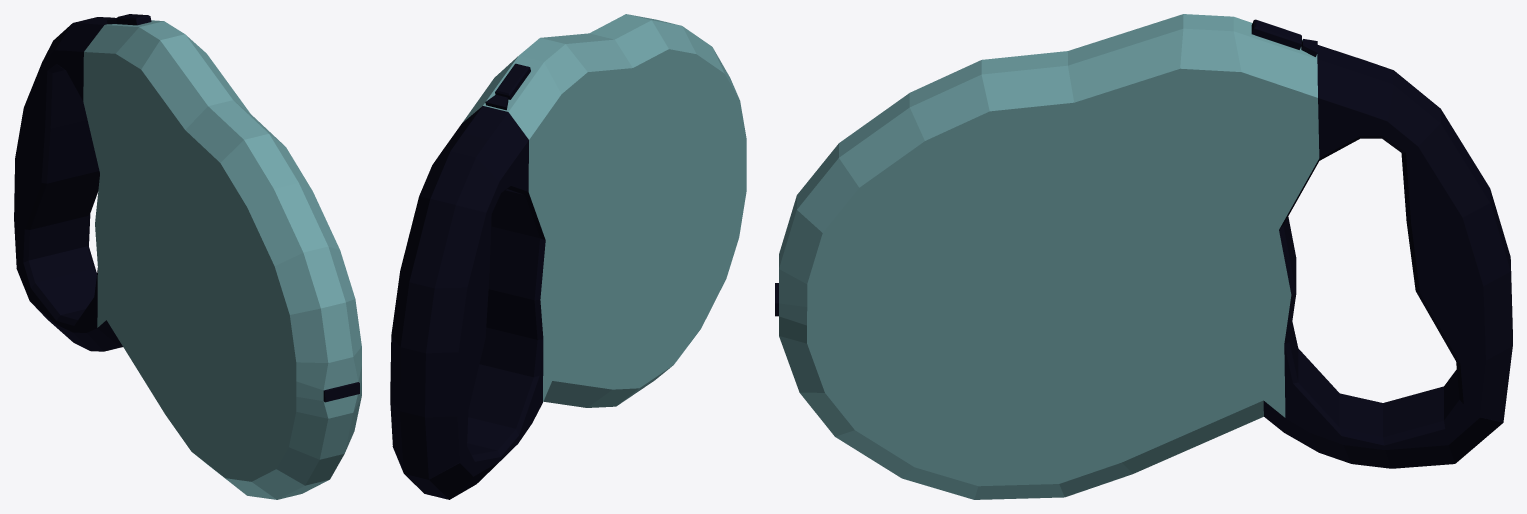
File: Leash.fbx
3 renders of one model, left to right at view 1: azimuth 30°, elevation 25°; view 2: azimuth 150°, elevation 25°; view 3: azimuth 270°, elevation 25°, orthographic. The views are drawn at different scales.
Parts seen in each view (by area): view 1: Plane; view 2: Plane; view 3: Plane.
Part boxes in pixels (x1=…): Plane: x1=14, y1=14, x2=361, y2=499; Plane: x1=390, y1=14, x2=746, y2=499; Plane: x1=775, y1=14, x2=1512, y2=499.
Size of the model in its own units: 36.53 by 208 by 296.
